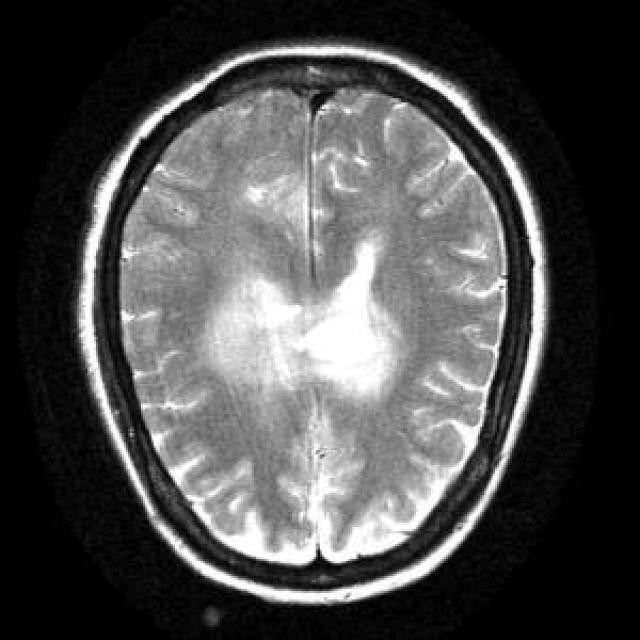Tumor: (310, 241, 408, 399), (205, 275, 303, 395)
